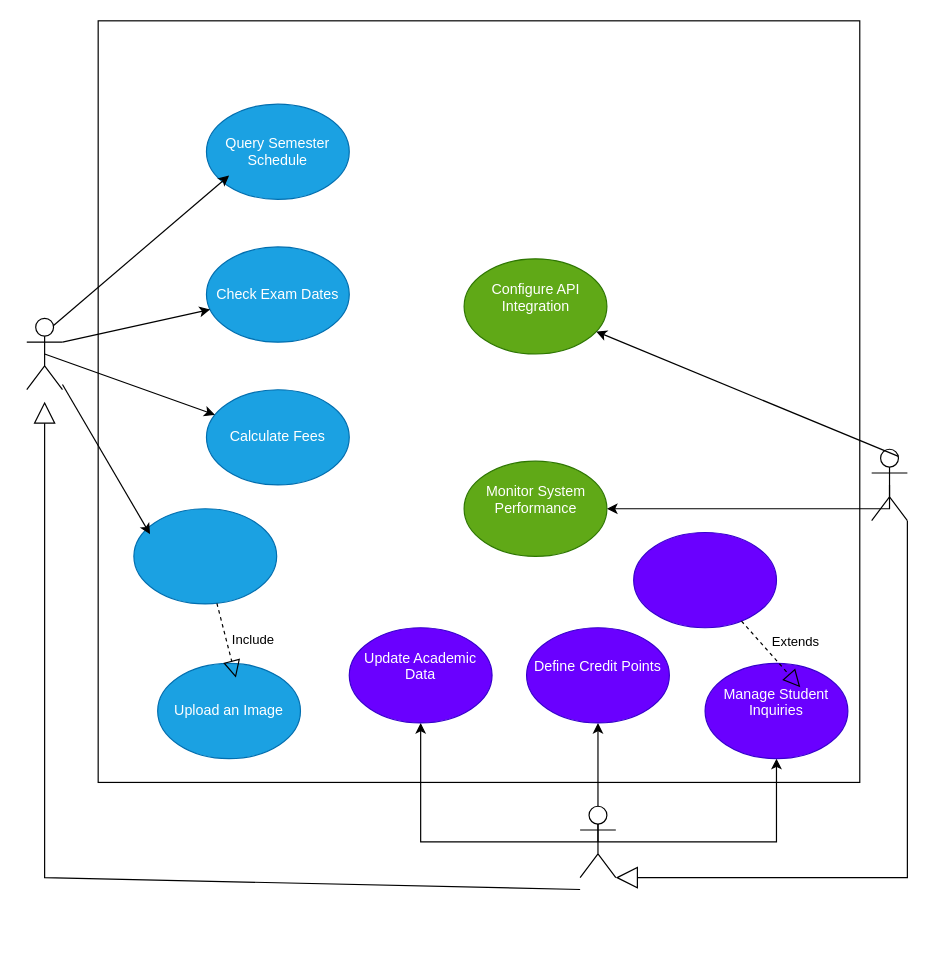
Some shapes in this 950 by 976 pixel diagram are drawn without their labels. The shapes that lost their labels are listed below. From the top down, each one's box as (x1, y1, x2, y2) in pixels, then its label:
(26, 317, 62, 390): Student
(870, 448, 907, 521): Developer
(133, 508, 277, 604): Report Technical Issue
(632, 531, 776, 628): Name Changing
(579, 805, 616, 878): Staff
